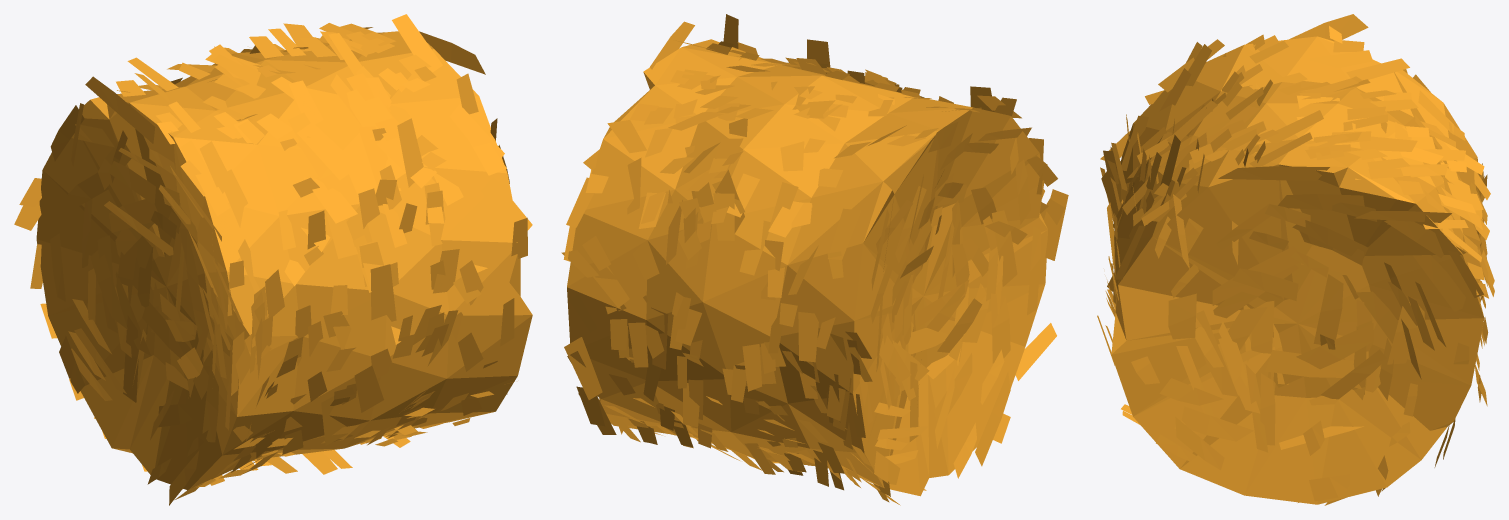
File: SM_Haybale_Round_B.fbx
3 views of the same model, side by side, from view 1: azimuth 30°, elevation 25°; view 2: azimuth 150°, elevation 25°; view 3: azimuth 270°, elevation 25° (orthographic). The views are drawn at different scales.
Parts seen in each view (by area): view 1: haybale-round-b; view 2: haybale-round-b; view 3: haybale-round-b.
Part boxes in pixels (bbox=[...]): haybale-round-b: bbox=[14, 14, 532, 505]; haybale-round-b: bbox=[561, 14, 1068, 505]; haybale-round-b: bbox=[1097, 14, 1494, 505].
Size of the model in its own units: 1.67 by 1.98 by 1.91.
